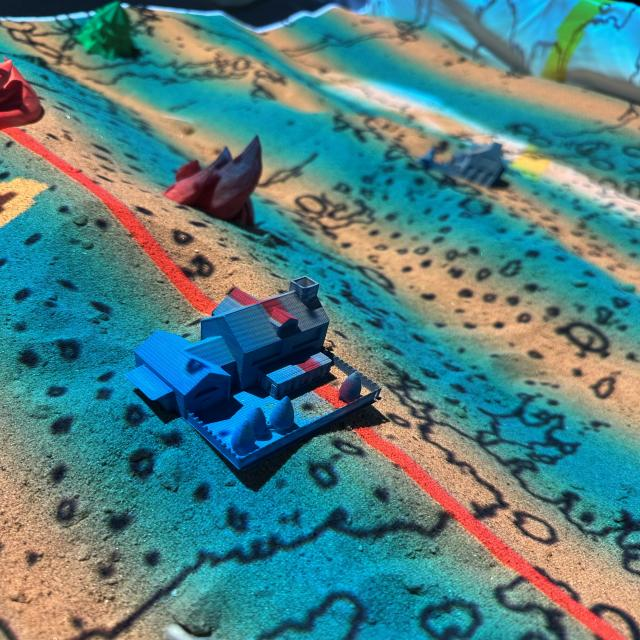fire: (166, 135, 263, 227), (0, 57, 45, 130)
house: (125, 274, 383, 470), (417, 139, 508, 187)
tree: (77, 1, 136, 61)
